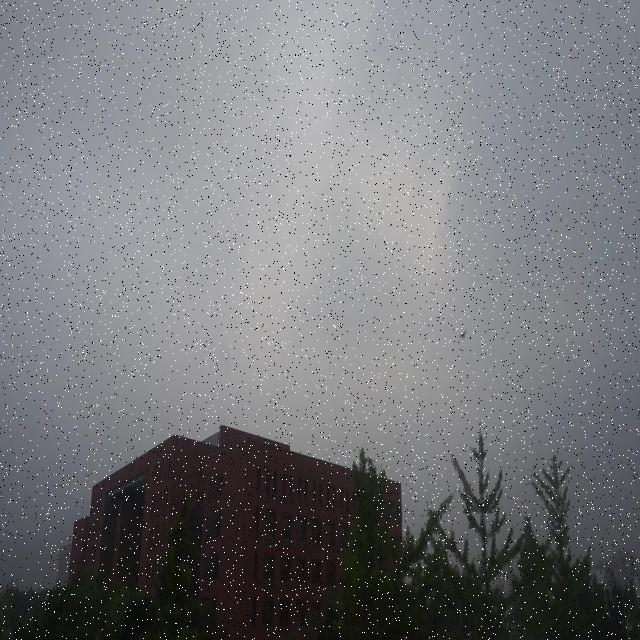UAV: (459, 330, 467, 340)
